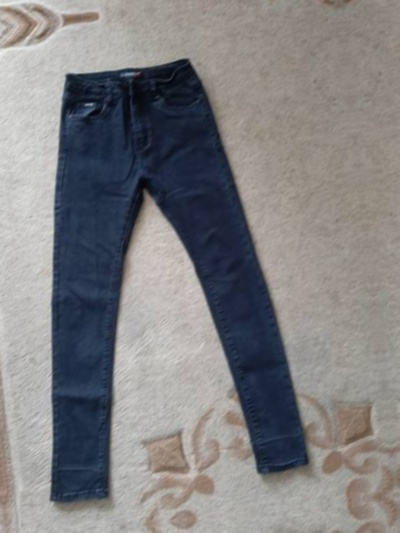Pants: (0, 47, 338, 513), (53, 525, 394, 533)
